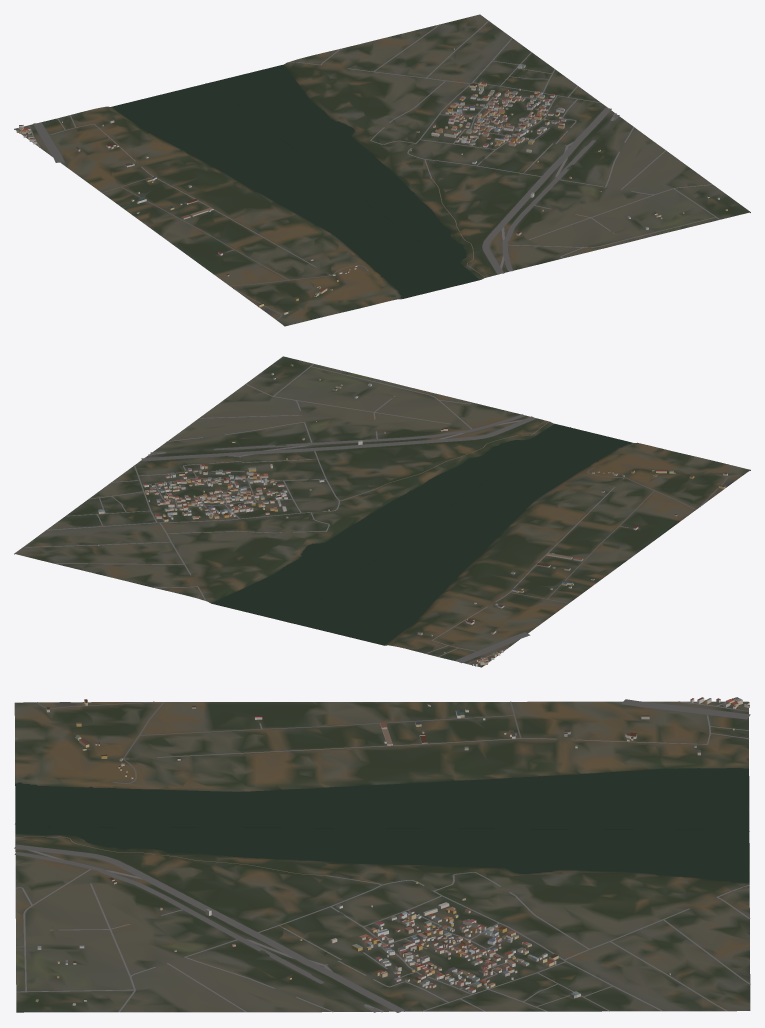
The picture shows the model from 3 angles, top to bottom: view 1: azimuth 30°, elevation 25°; view 2: azimuth 150°, elevation 25°; view 3: azimuth 270°, elevation 25°; orthographic projection. The views are drawn at different scales.
Visible parts, largest first — view 1: ground, water, roads, buildings; view 2: ground, water, roads, buildings; view 3: ground, water, roads, buildings.
Part boxes in pixels (x1,y1,x2,y2): ground: (14, 14, 750, 326); water: (112, 64, 479, 298); roads: (21, 20, 720, 320); buildings: (16, 48, 727, 314); ground: (14, 356, 750, 667); water: (212, 424, 631, 644); roads: (22, 363, 742, 663); buildings: (98, 364, 727, 666); ground: (14, 701, 750, 1012); water: (15, 768, 749, 882); roads: (14, 699, 750, 1012); buildings: (35, 697, 749, 1005).
Bounding box in the file's own units: 1418 × 18.24 × 1407.
